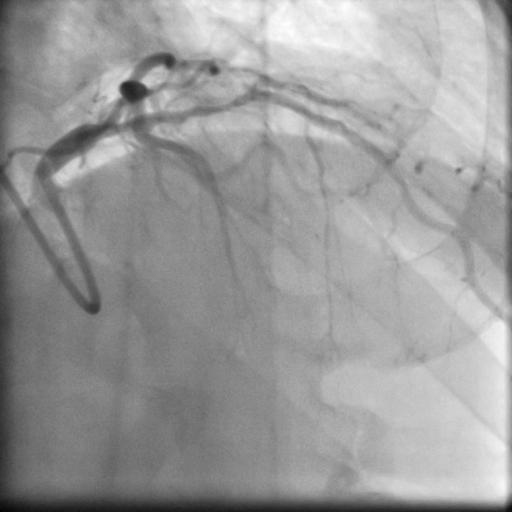Stenosis: (176, 100, 246, 119)
